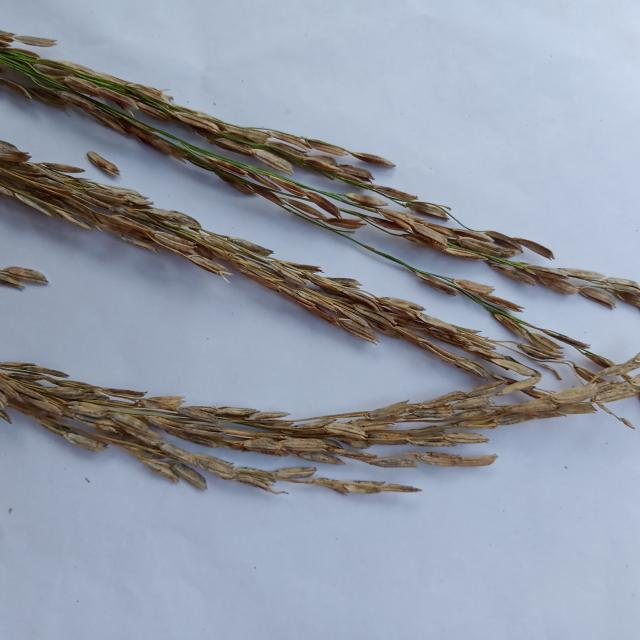Neck_Blast: (0, 42, 636, 310), (0, 140, 501, 377), (0, 366, 560, 488)
